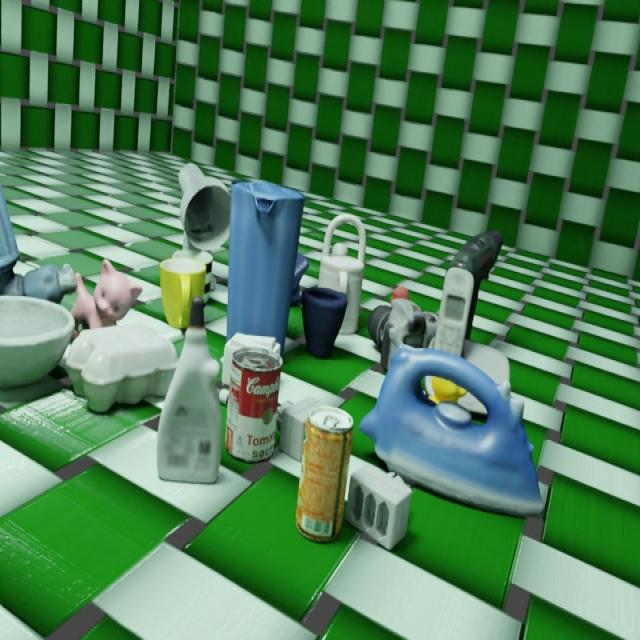Other Objects: (359, 345, 543, 515), (226, 180, 304, 353), (156, 299, 222, 483), (296, 407, 351, 541), (0, 296, 73, 388), (225, 348, 280, 461), (318, 213, 365, 333), (346, 464, 411, 548), (71, 259, 140, 335), (368, 299, 436, 371), (179, 163, 229, 249), (429, 267, 473, 355), (300, 287, 346, 357), (279, 399, 325, 459)
